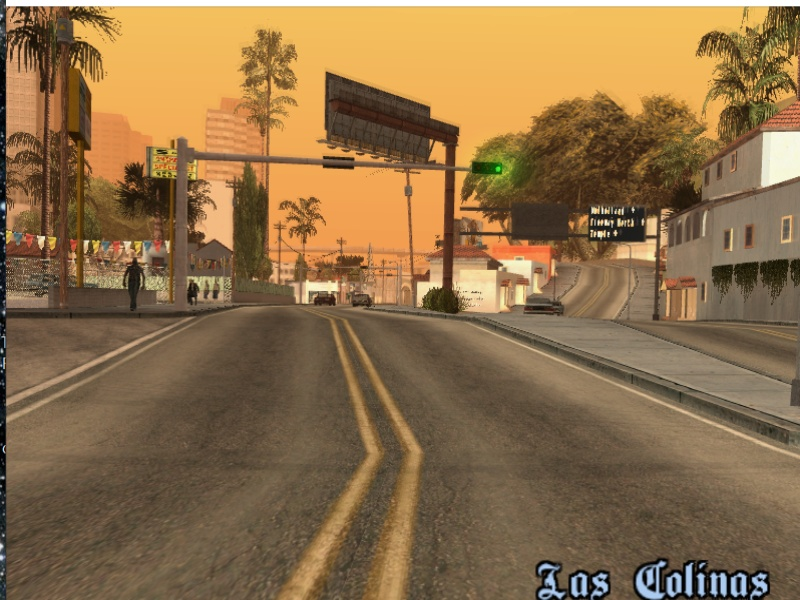person: (118, 255, 151, 310), (210, 279, 223, 305), (188, 280, 200, 308)
pole: (172, 143, 190, 309), (441, 148, 458, 305), (656, 220, 663, 325)
vehicle: (522, 297, 551, 314), (314, 291, 337, 307), (352, 294, 370, 308)
